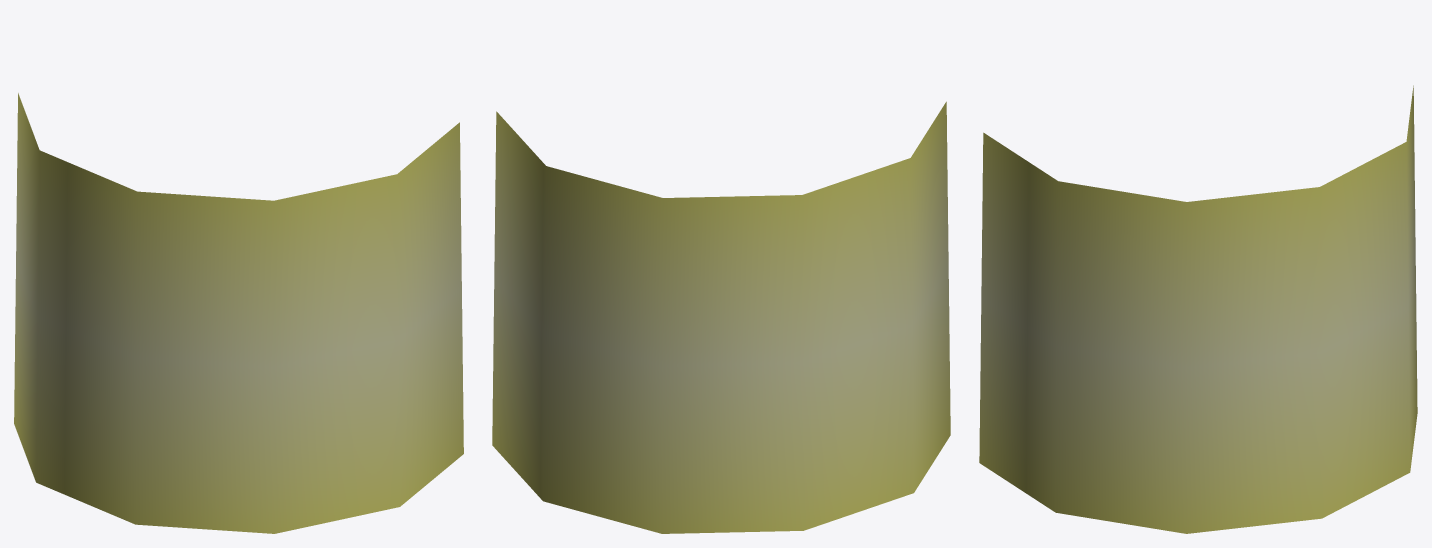
Rendered from LanternLightCylinderRight_0.glb.
3 renders of one model, left to right at view 1: azimuth 30°, elevation 25°; view 2: azimuth 150°, elevation 25°; view 3: azimuth 270°, elevation 25°, orthographic.
Parts seen in each view (by area): view 1: LanternLightCylinderRight; view 2: LanternLightCylinderRight; view 3: LanternLightCylinderRight.
Boxes of the visible parts, x1,y1,x2,y2 form: LanternLightCylinderRight: [14, 93, 463, 533]; LanternLightCylinderRight: [492, 101, 950, 533]; LanternLightCylinderRight: [979, 85, 1417, 533].
Bounding box in the file's own units: 0.4118 × 0.3312 × 0.3983.
